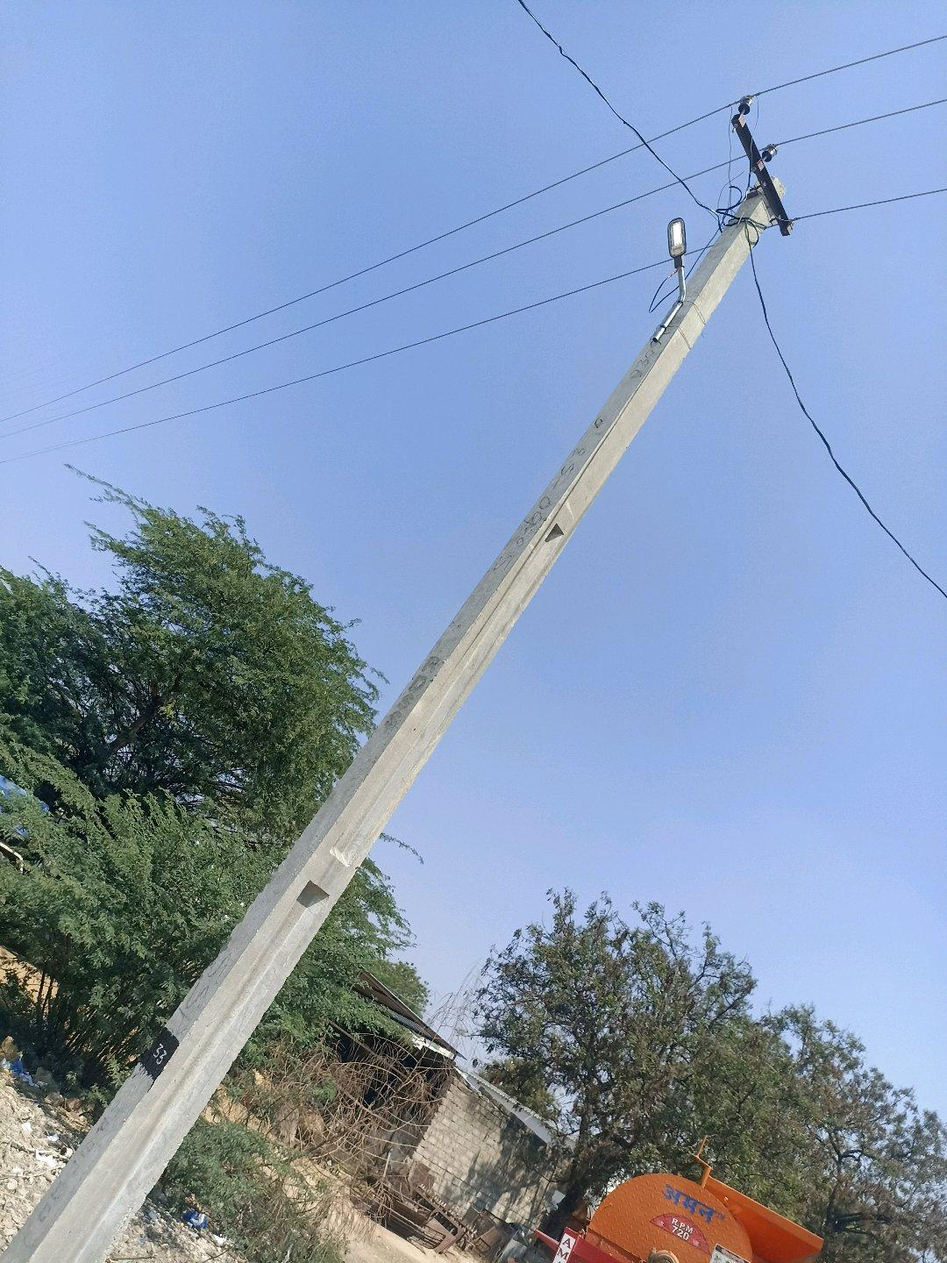{"0" "insulator", "1" "pole", "2" "crossarm", "3" "conductor", "4" "street_: (30, 100, 790, 1262), (31, 1210, 39, 1222), (671, 233, 673, 235)
